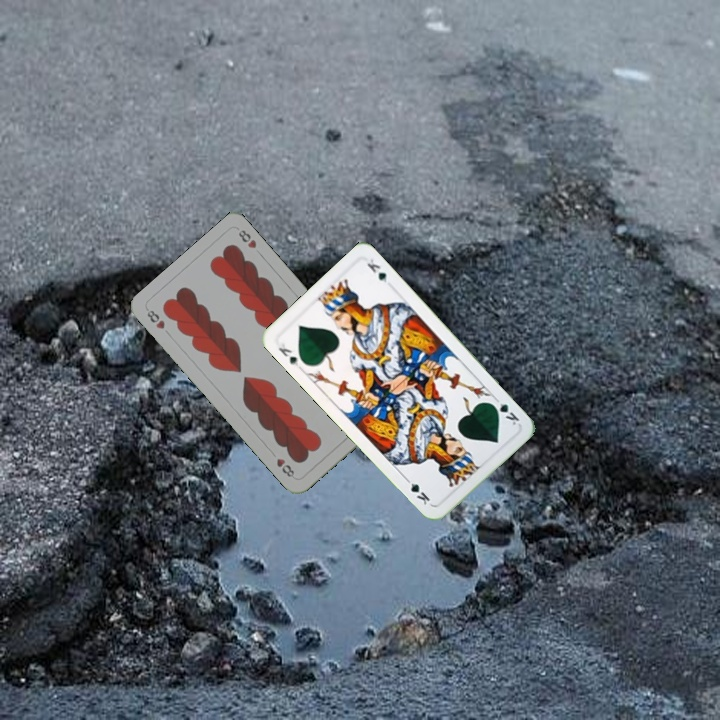GK: (487, 393, 522, 428), (274, 337, 302, 369)
H8: (142, 305, 167, 332)
